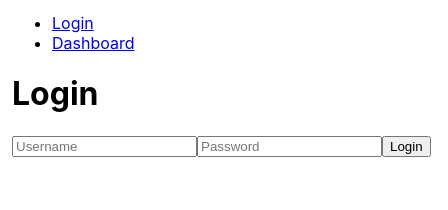
Test: Login Form Test › should display an error message for invalid credentials
In the field with placeholder "Username": (105, 147) x1=12 y1=136 x2=197 y2=157, type "invalid_user"
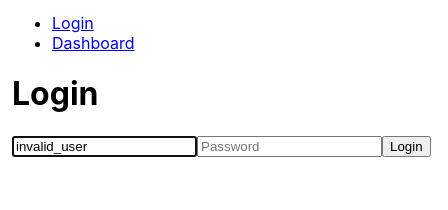
In the password field with placeholder "Password": (290, 147) x1=197 y1=136 x2=382 y2=157, type "invalid_password"
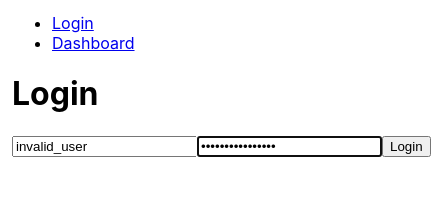
Click the submit button: (407, 147) x1=382 y1=136 x2=431 y2=157
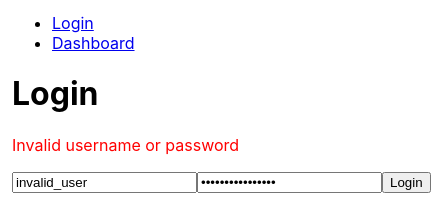
Now the text "Invalid username or password" is shown, box x1=12 y1=135 x2=239 y2=155
